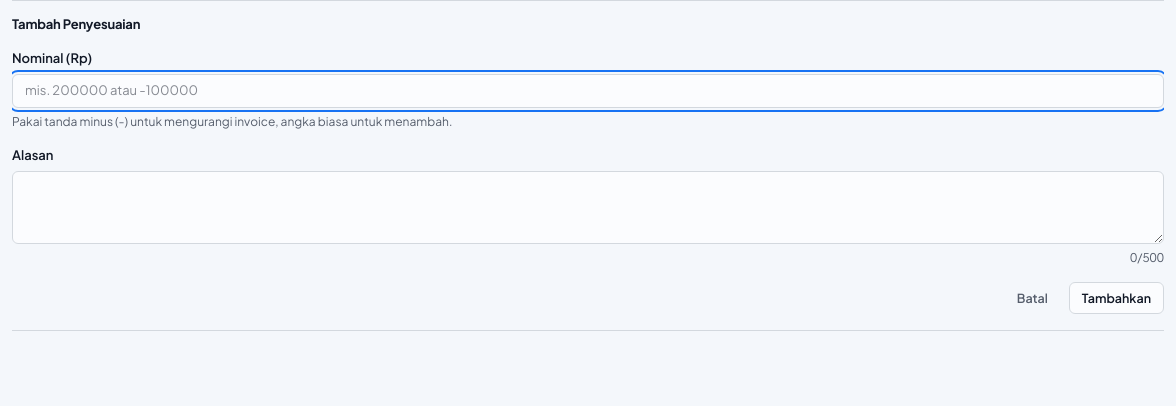
Scenario: AdjustmentForm › says only that the request could not go through when it throws
In the field labelled "Nominal (Rp)": (588, 91) 12,74 -> 1164,108, type "100000"
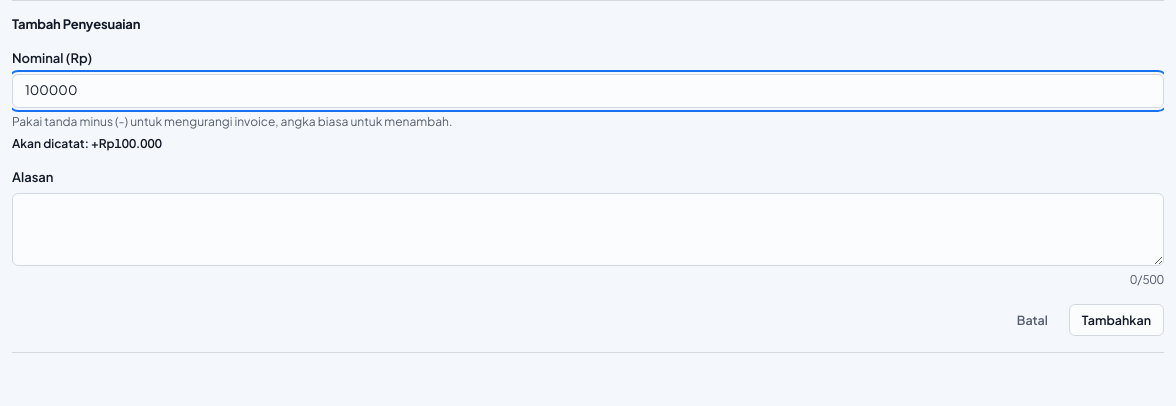
In the text box labelled "Alasan": (588, 229) 12,193 -> 1164,266, type "Koreksi"
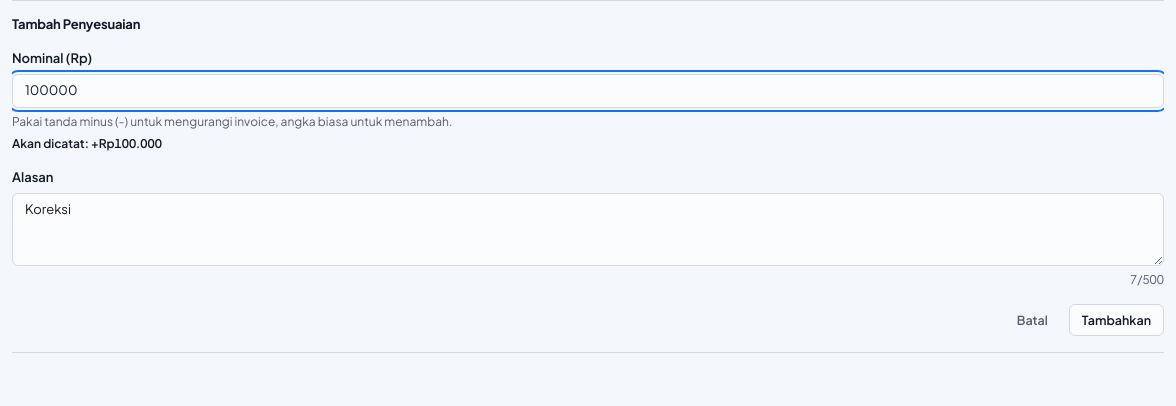
Click the button "Tambahkan": (1116, 320) 1069,304 -> 1164,336
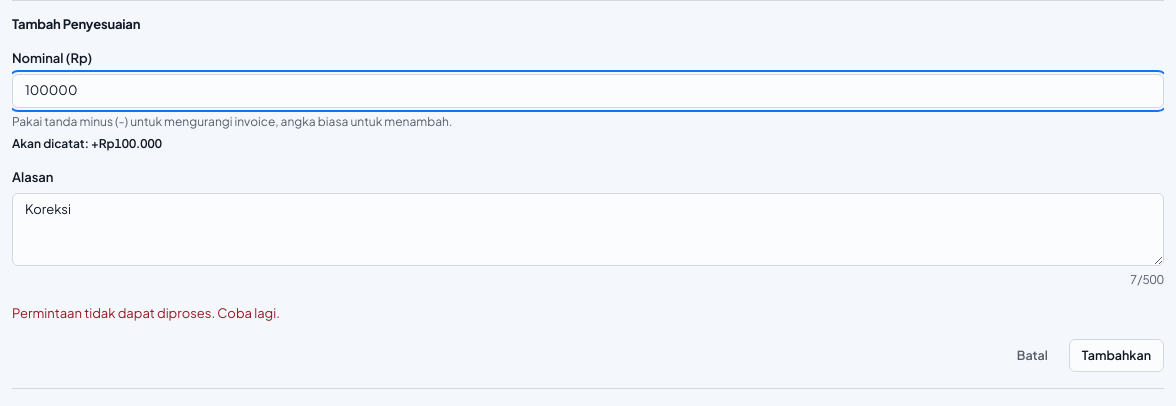
Check: the message reads "Permintaan tidak dapat diproses. Coba lagi.", box 12,305 -> 280,321
